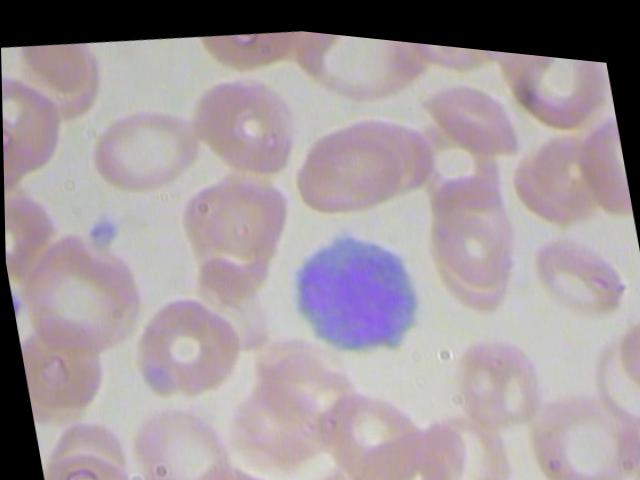Platelets: (76, 205, 127, 252)
Red Blood Cells: (4, 217, 151, 374), (73, 83, 211, 210), (168, 152, 302, 277), (123, 278, 251, 408), (183, 56, 306, 183), (312, 364, 441, 479), (514, 361, 639, 479), (288, 105, 410, 223), (522, 202, 639, 322), (437, 312, 549, 424), (321, 102, 434, 206), (414, 56, 527, 160), (124, 388, 248, 479), (1, 64, 73, 193)
White Blood Cells: (266, 199, 434, 367)
